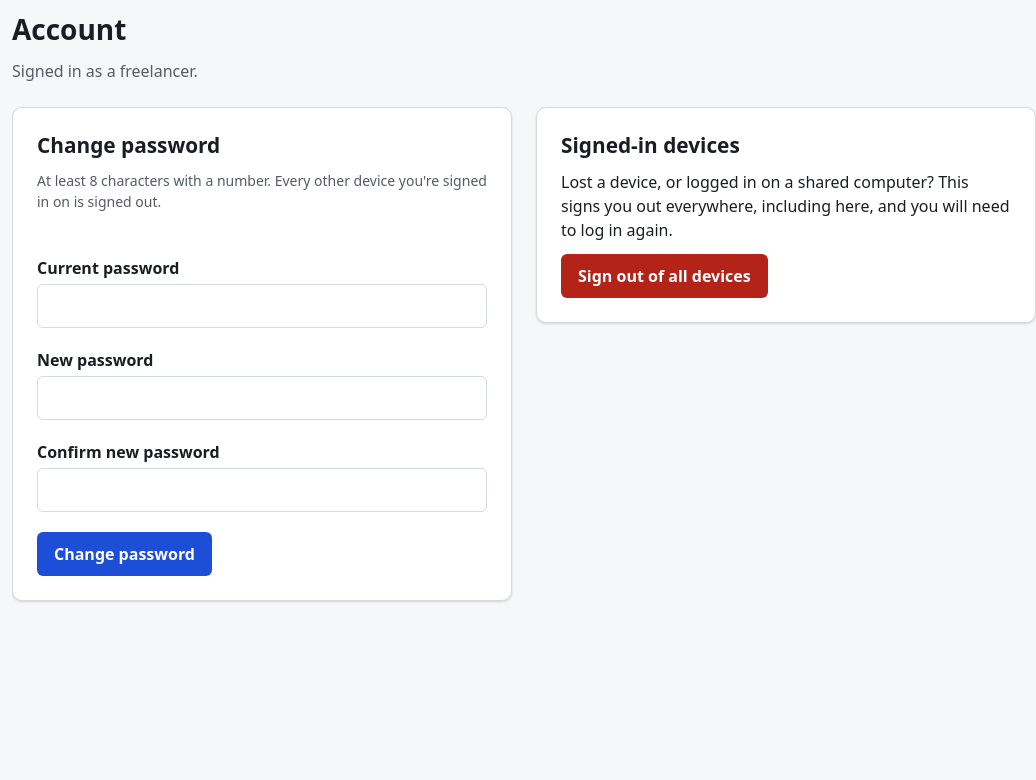
Test case: Account page - change password › shows the API message for a wrong current password and does not log out
Type "OldPassword1" into the password field labelled "Current password" at (262, 306), box [37, 284, 487, 328]
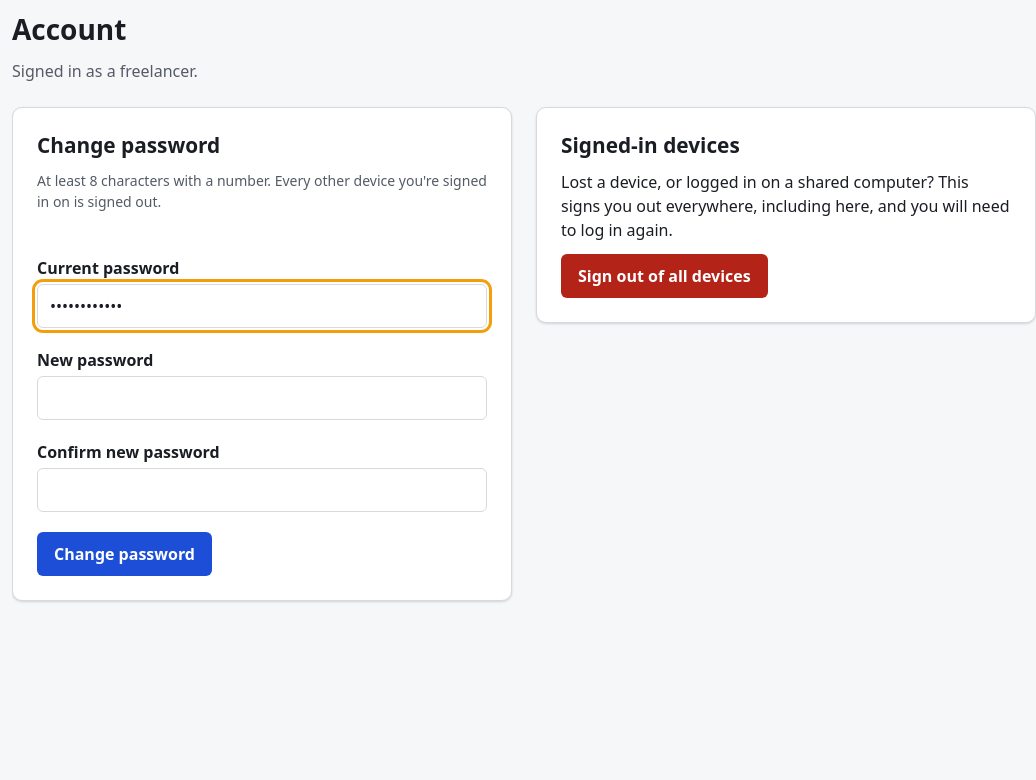
Type "NewPassword2" into the password field labelled "New password" at (262, 398), box [37, 376, 487, 420]
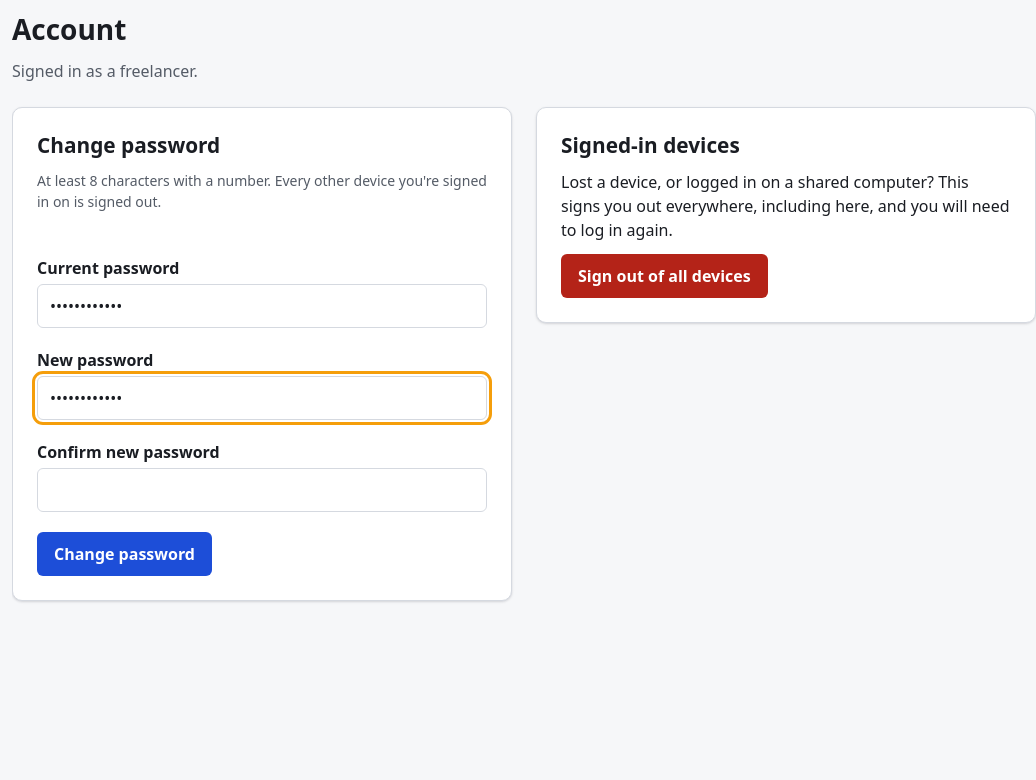
Type "NewPassword2" into the password field labelled "Confirm new password" at (262, 490), box [37, 468, 487, 512]
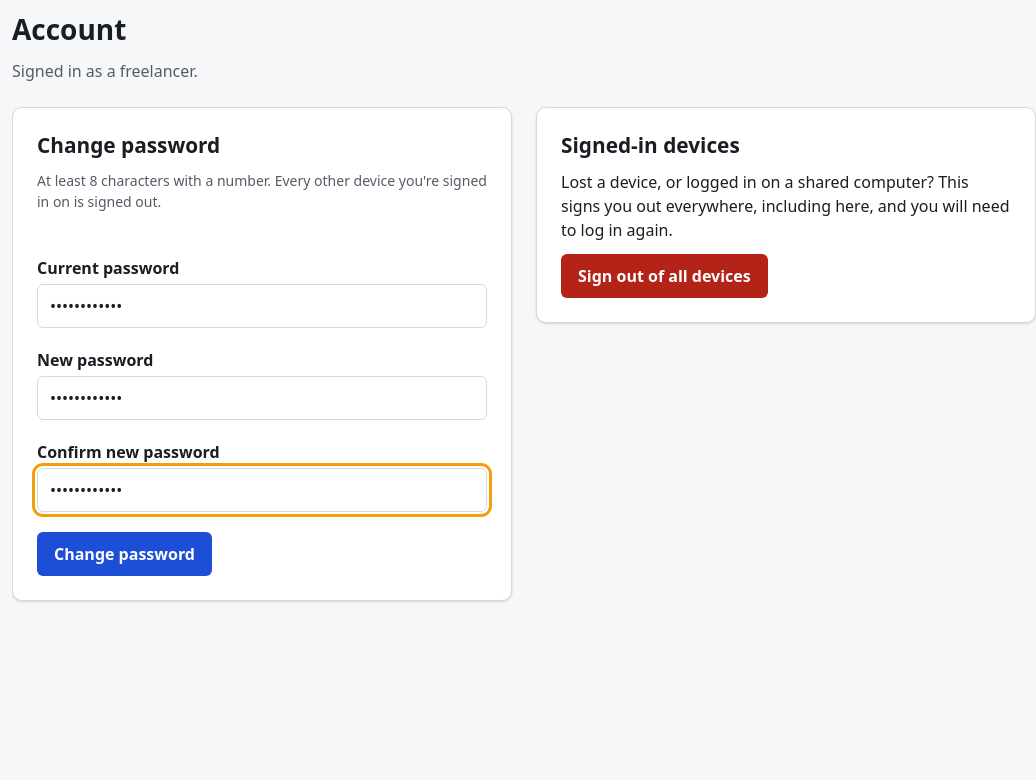
Click the button "Change password" at (124, 554), box [37, 532, 212, 576]
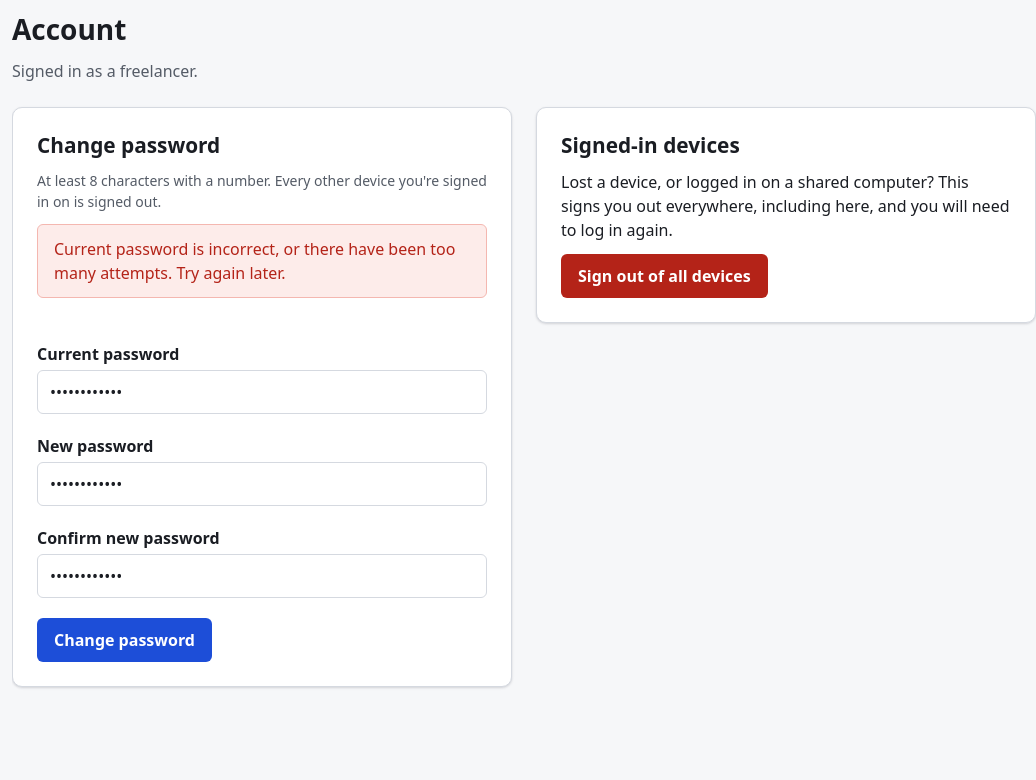
Expected: the button "Change password" is enabled, [37, 618, 212, 662]
Expected: the message shows "Current password is incorrect, or there have been too many attempts. Try again later.", [54, 238, 456, 284]
